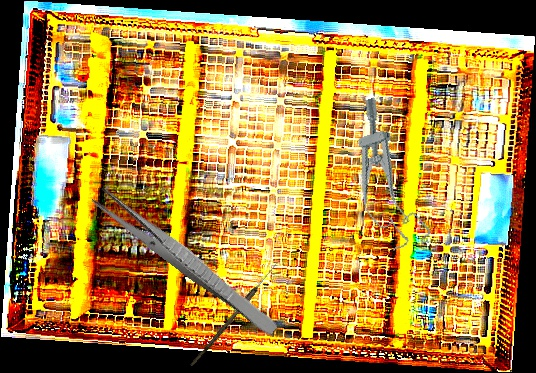Dressing Forceps: (89, 184, 283, 339)
Speculum: (332, 93, 435, 259)
Surgical Spoon: (189, 259, 281, 369)
